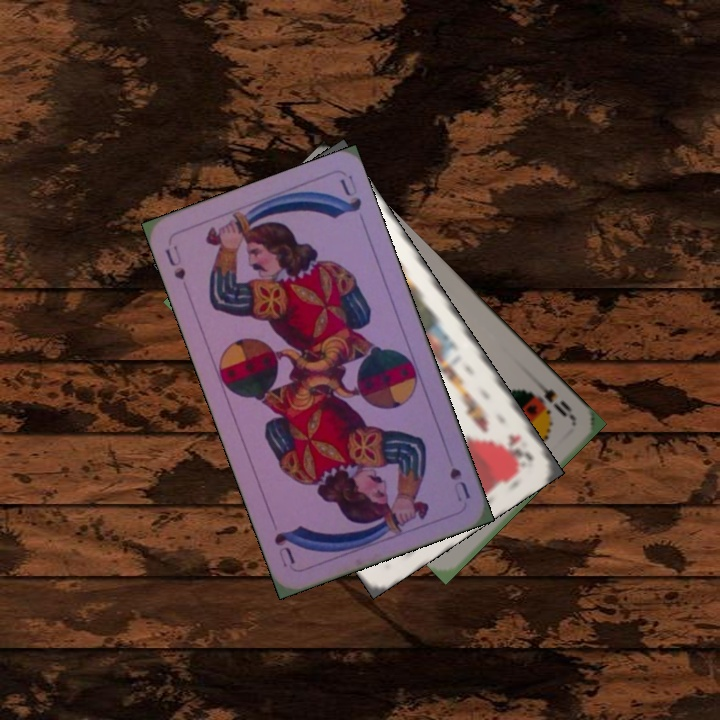HK: (503, 430, 536, 467)
SO: (529, 375, 577, 422)
SU: (445, 463, 473, 505), (161, 241, 188, 283)
